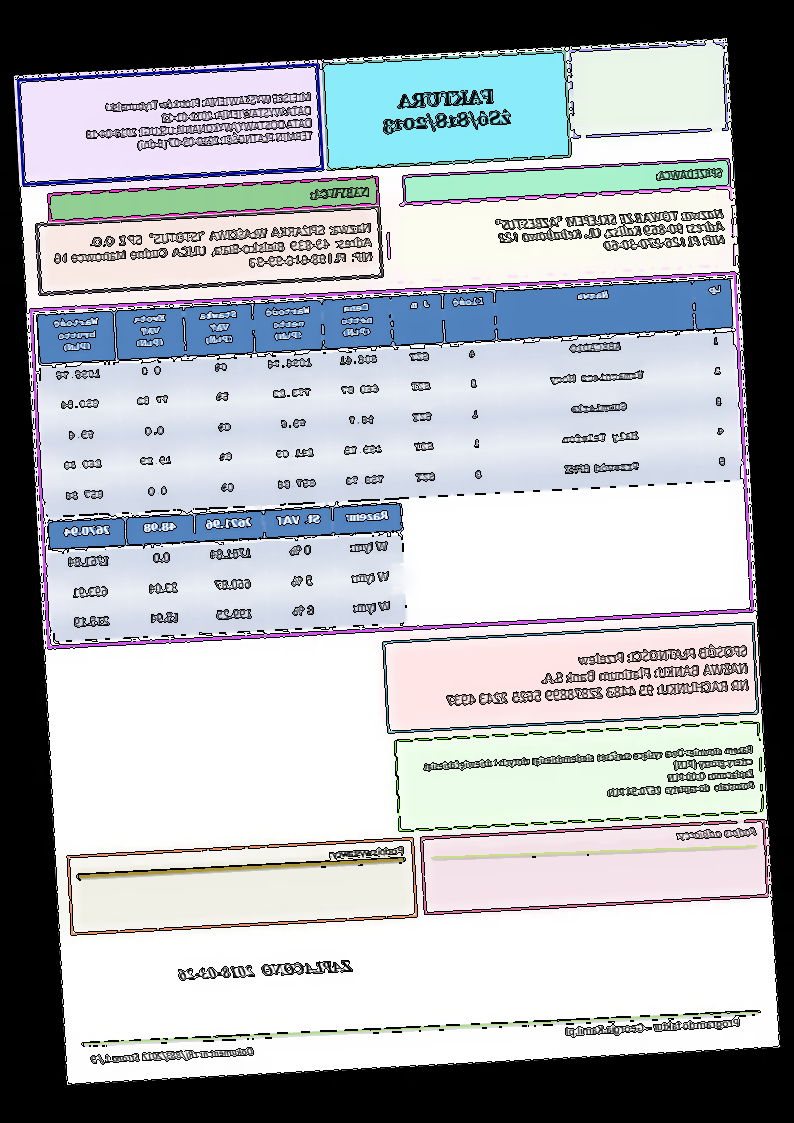Table: (35, 277, 743, 518), (47, 502, 409, 642)
TextBox: (422, 743, 757, 808), (442, 640, 751, 710), (51, 221, 376, 281), (83, 88, 316, 156), (495, 207, 727, 258), (379, 85, 515, 137), (176, 956, 356, 984), (564, 1014, 741, 1039), (89, 1044, 255, 1068), (673, 824, 759, 845), (329, 844, 406, 862), (654, 165, 726, 183), (309, 185, 372, 202)
